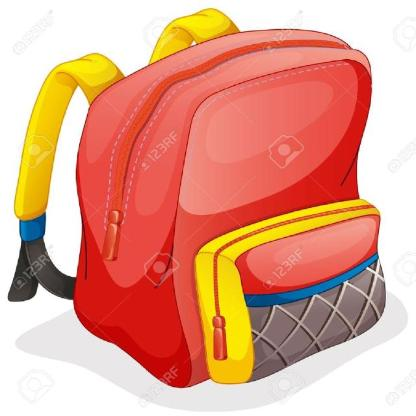bag: (13, 5, 394, 390)
